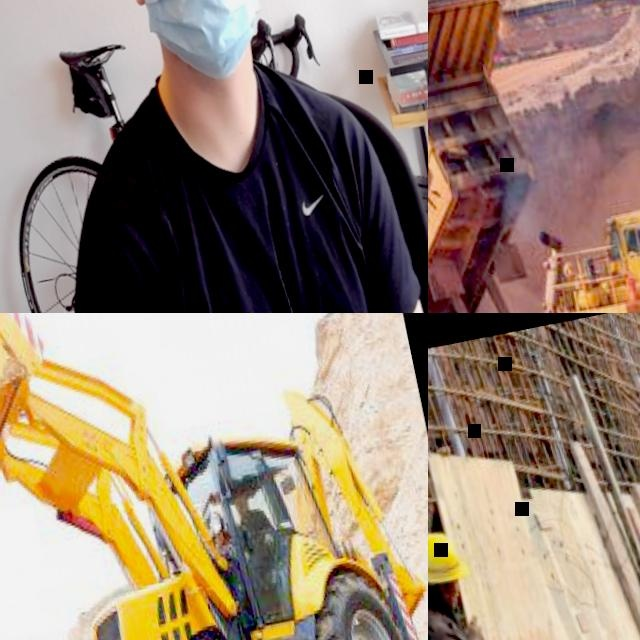Hardhat: (428, 523, 466, 588)
Mask: (126, 0, 277, 96)
NO-Hardhat: (231, 489, 249, 503)
NO-Mask: (436, 582, 460, 608), (236, 502, 251, 514)
NO-Safety Vest: (90, 56, 384, 313), (428, 591, 487, 640), (237, 507, 275, 551)
Person: (0, 0, 428, 313), (428, 511, 571, 640), (229, 483, 293, 618)
machinery: (0, 313, 428, 640), (428, 0, 640, 313)
